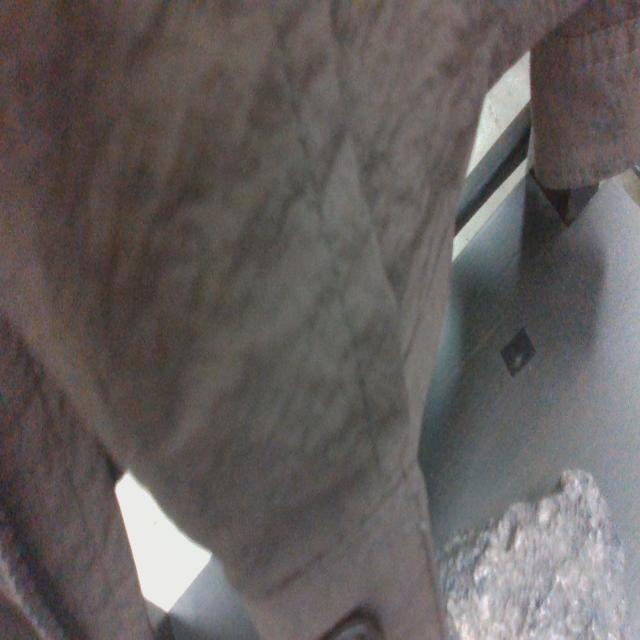stone: (433, 463, 640, 639)
